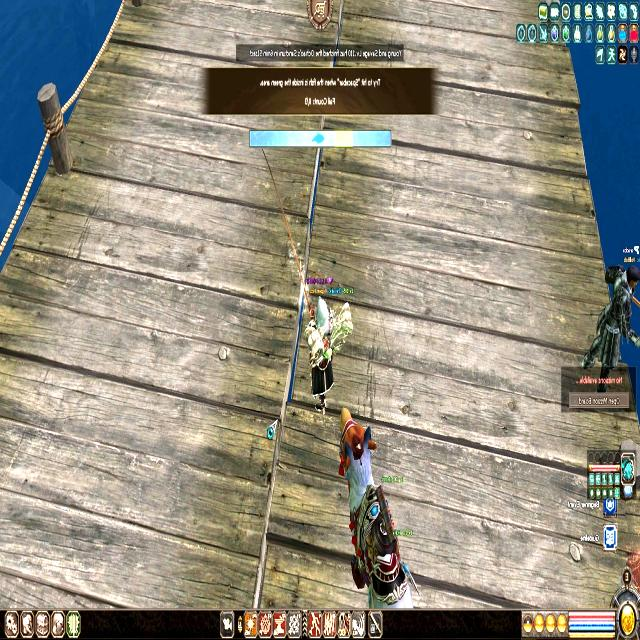fishes: (312, 131, 325, 145)
